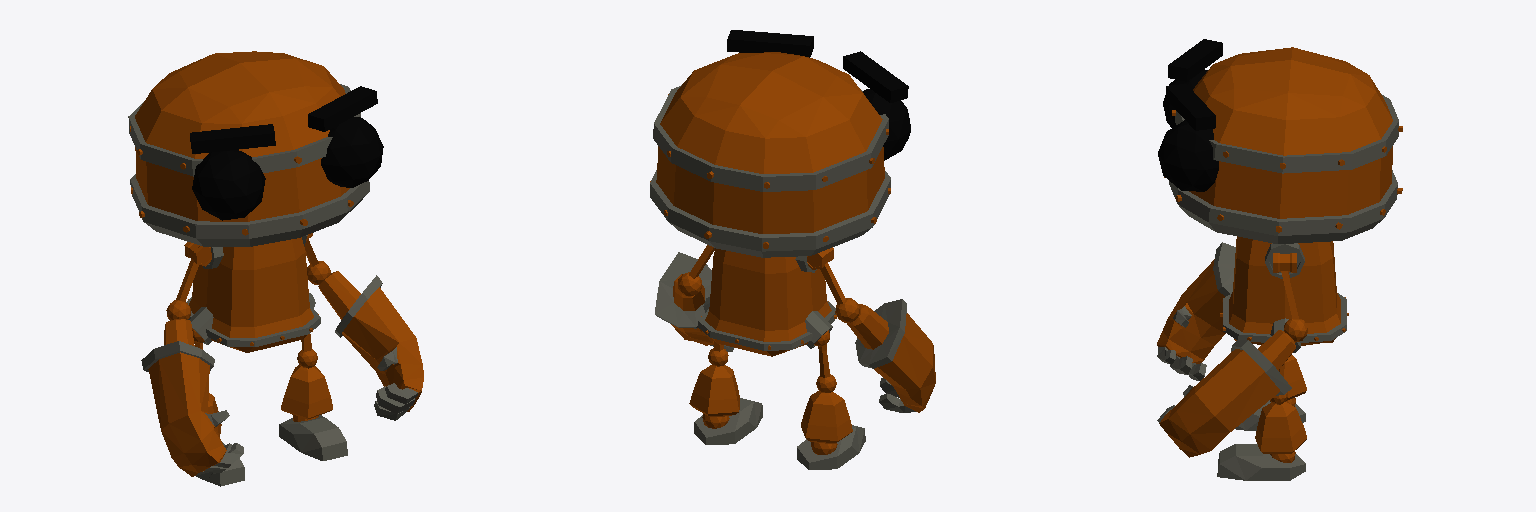
File: Robot.obj
The picture shows the model from 3 angles: view 1: azimuth 30°, elevation 25°; view 2: azimuth 150°, elevation 25°; view 3: azimuth 270°, elevation 25°; orthographic projection.
Visible parts, largest first — view 1: Robot; view 2: Robot; view 3: Robot.
Part boxes in pixels (bbox=[...]): Robot: bbox=[128, 51, 423, 486]; Robot: bbox=[650, 30, 935, 469]; Robot: bbox=[1157, 39, 1402, 480].
Size of the model in its own units: 3.1 by 4.5 by 2.63.